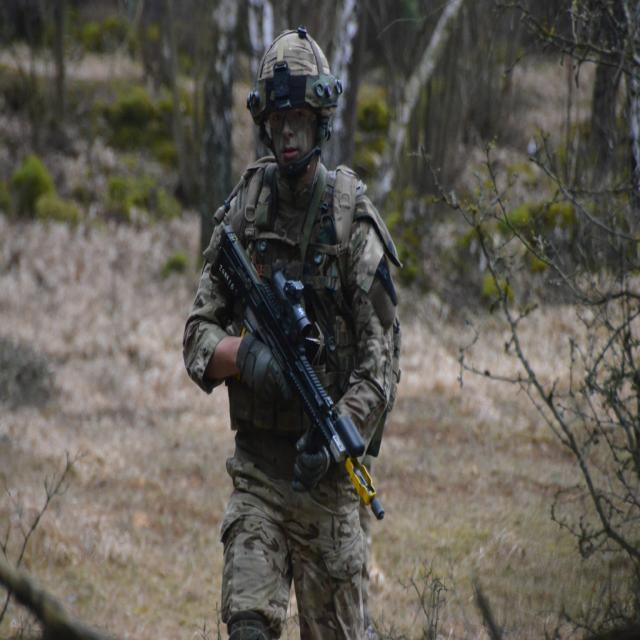weapon: (210, 220, 384, 520)
